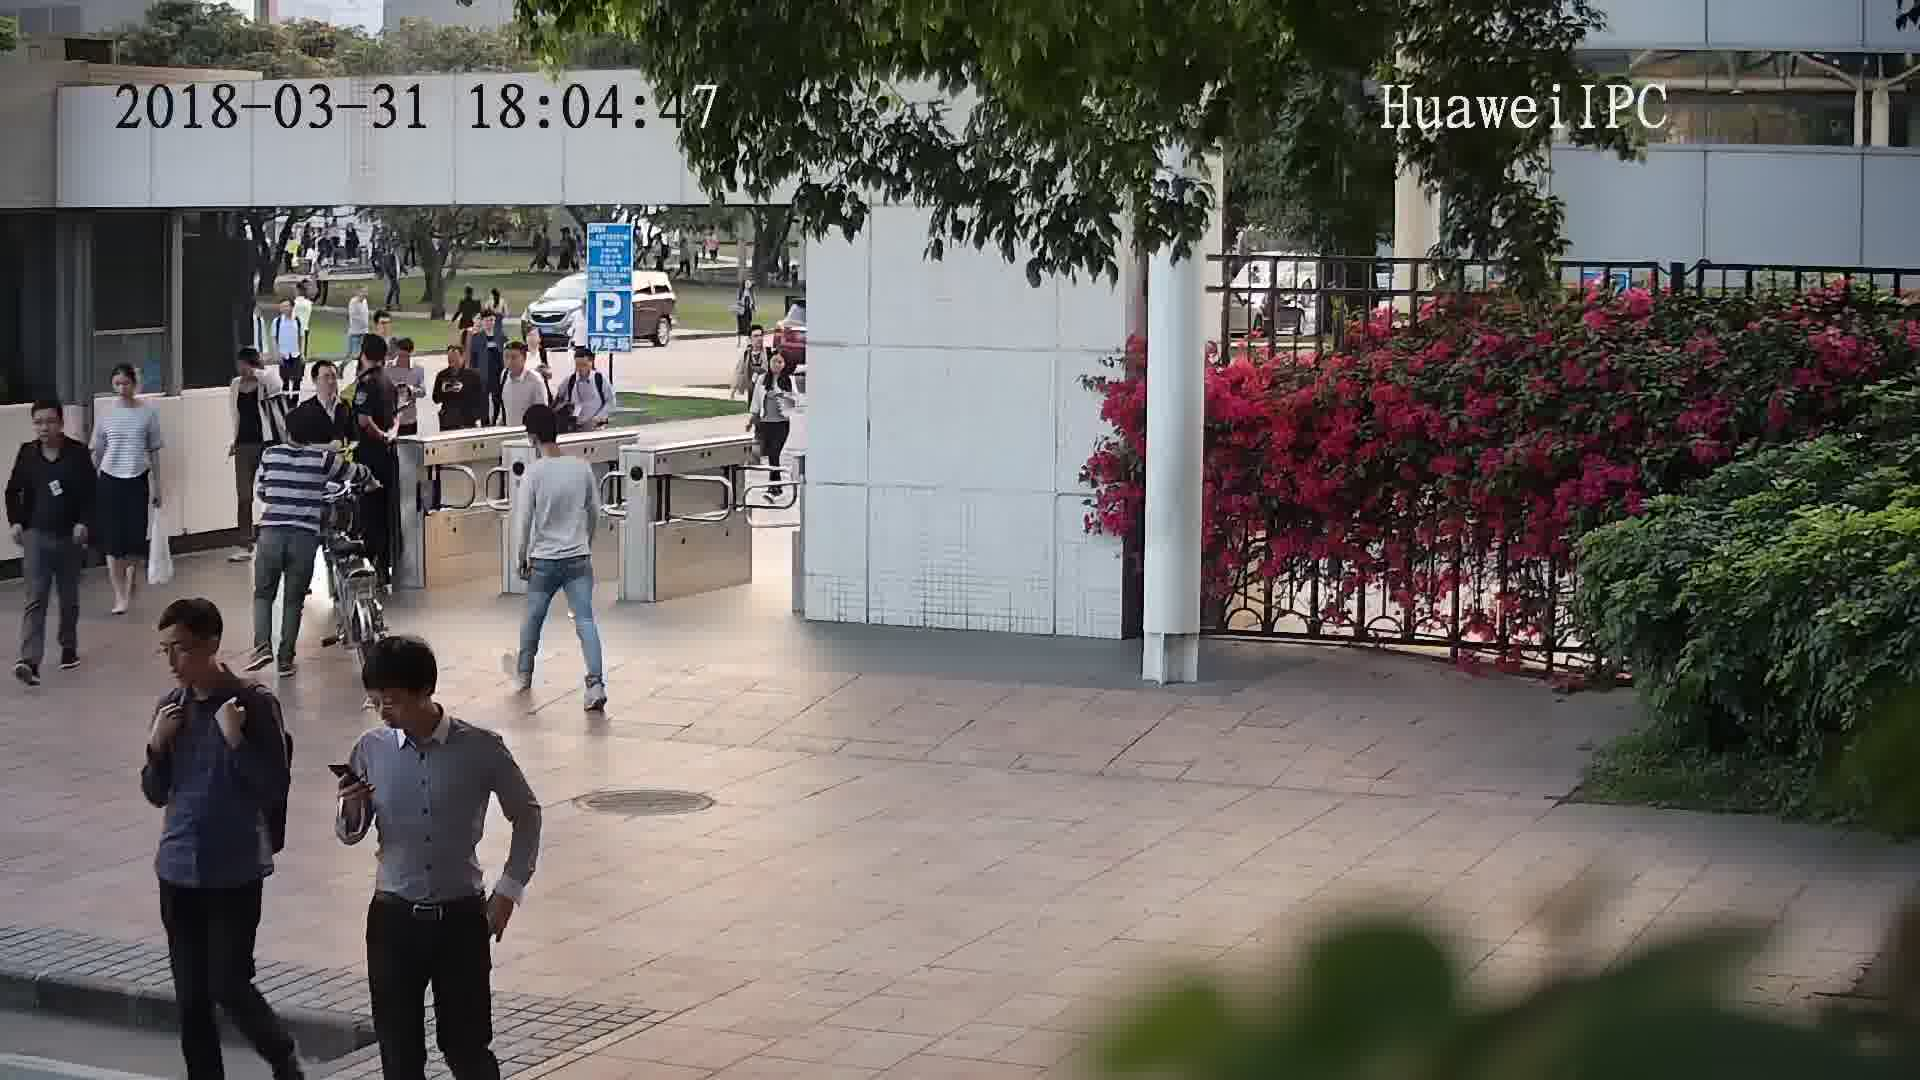face: (151, 621, 215, 685), (362, 685, 429, 734), (27, 408, 63, 448), (107, 372, 138, 401)
person: (350, 637, 508, 769), (148, 592, 280, 728), (521, 403, 596, 491), (262, 408, 342, 482), (17, 395, 95, 467), (101, 360, 164, 421), (298, 356, 351, 418), (502, 335, 550, 394), (356, 339, 401, 396), (437, 337, 485, 388), (233, 344, 280, 392), (566, 344, 611, 393), (387, 331, 425, 384), (753, 349, 800, 391), (736, 324, 777, 364), (518, 324, 556, 367), (367, 309, 405, 348), (472, 309, 511, 344), (269, 299, 308, 329), (345, 280, 371, 314), (457, 281, 485, 307), (481, 283, 509, 310), (733, 276, 756, 298)
